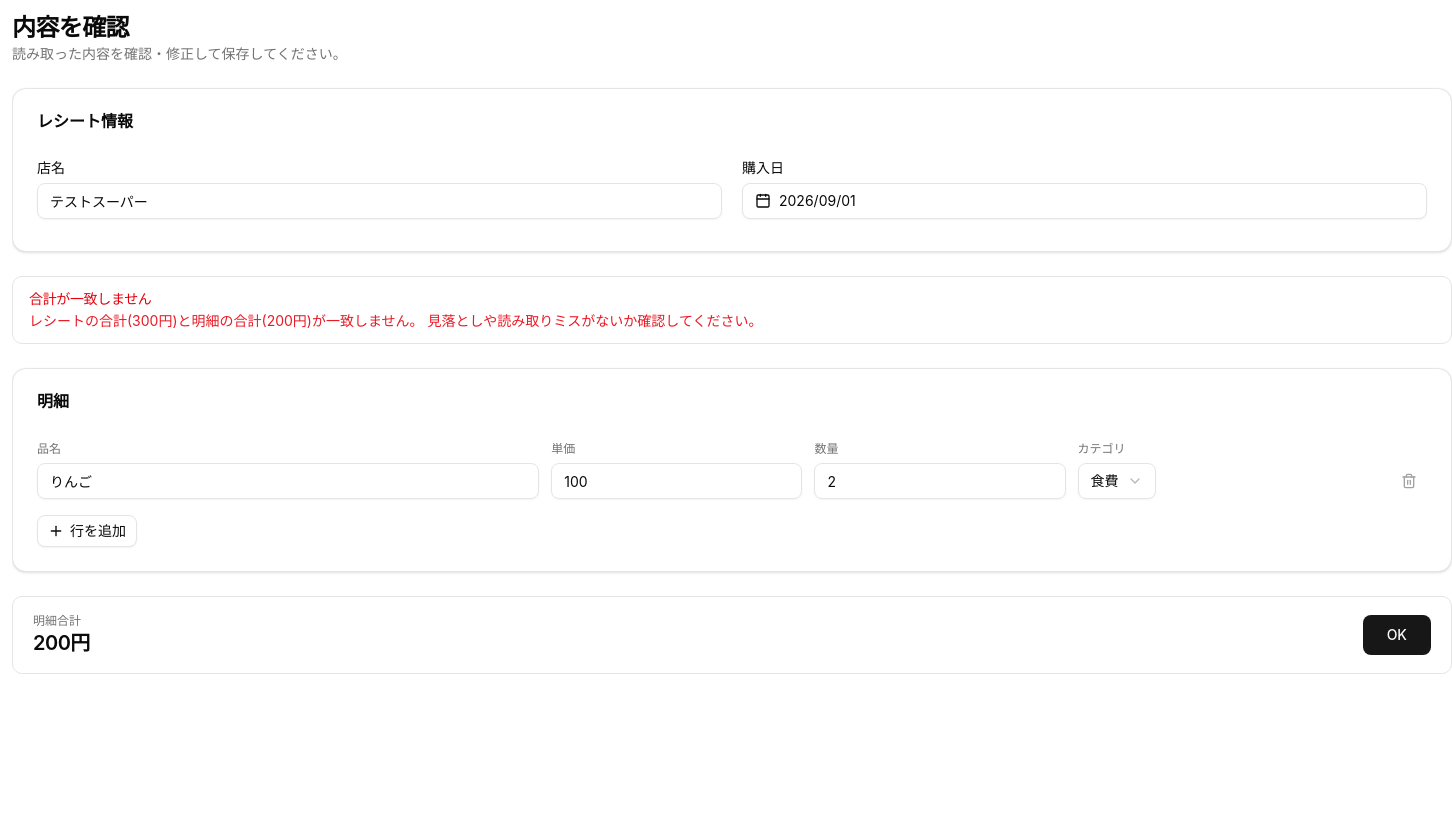
Test: ConfirmPage › shows an error message and keeps the input when saving fails
Expected: the field labelled "品名" is shown, [37,463,539,499]
Step 1. Click the button "OK" → (1397, 635), box [1363,615,1431,655]
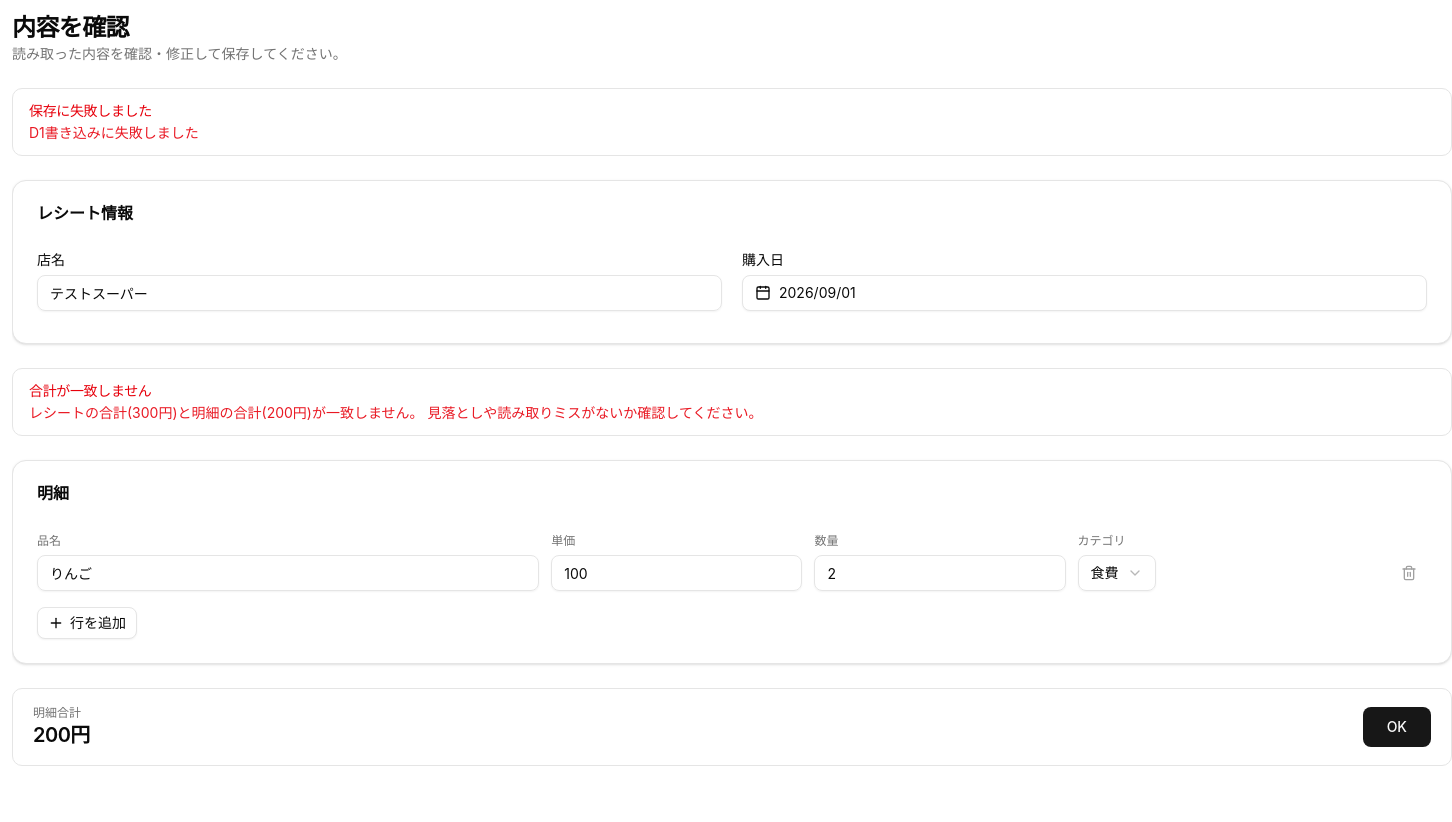
Expected: the field showing "テストスーパー" is shown, [37,275,722,311]
Now the text "D1書き込みに失敗しました" is shown, box [29,124,199,141]
